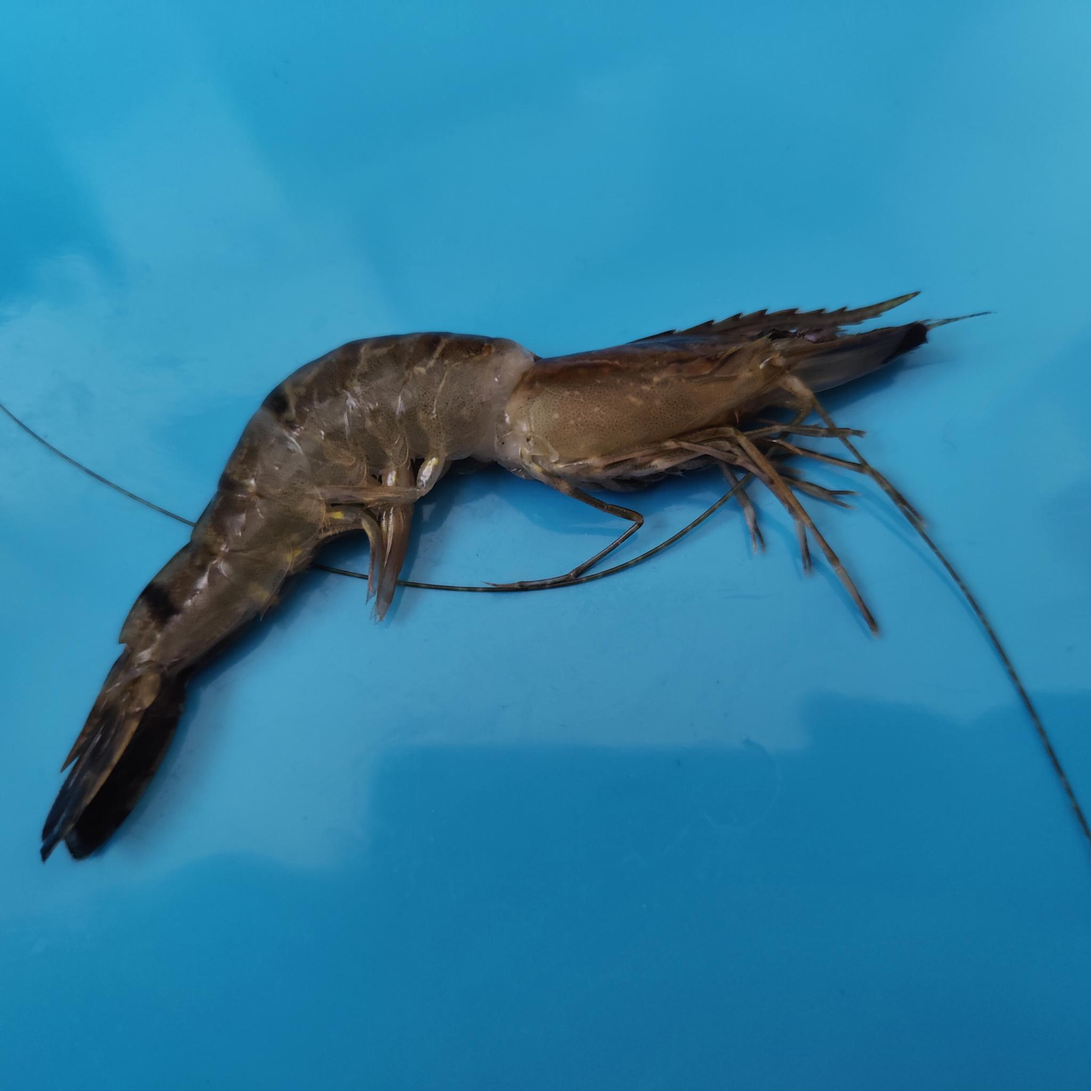whitespot: (549, 339, 728, 431), (440, 337, 502, 375), (405, 354, 439, 377)
